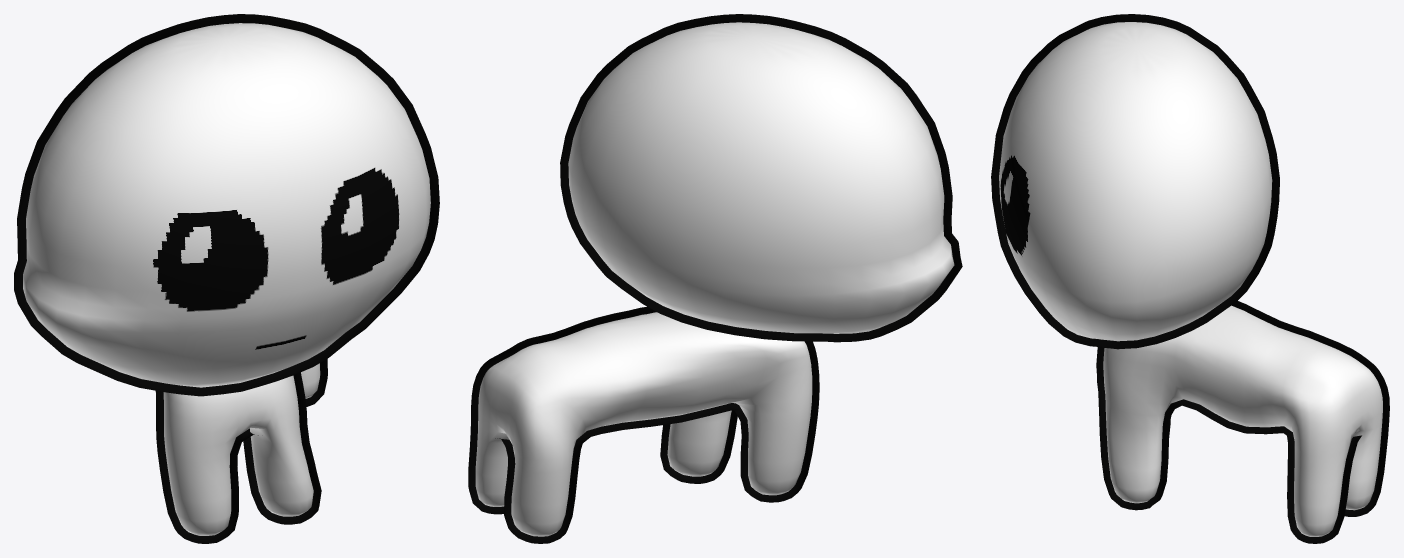
File: tbh-creature-fixed.glb
3 renders of one model, left to right at view 1: azimuth 30°, elevation 25°; view 2: azimuth 150°, elevation 25°; view 3: azimuth 270°, elevation 25°, orthographic. The views are drawn at different scales.
Visible parts, largest first — view 1: 5, 37, 16, 45; view 2: 5, 37, 16, 45; view 3: 5, 37, 16, 45.
Boxes of the visible parts, x1,y1,x2,y2 form: 5: [23, 23, 430, 387]; 37: [163, 363, 320, 535]; 16: [14, 14, 439, 396]; 45: [155, 359, 327, 543]; 5: [568, 22, 954, 333]; 37: [475, 312, 812, 536]; 16: [560, 14, 962, 342]; 45: [468, 306, 819, 543]; 5: [999, 22, 1272, 341]; 37: [1103, 305, 1382, 536]; 16: [991, 14, 1279, 349]; 45: [1096, 301, 1389, 543].
Size of the model in its own units: 4.17 by 4.91 by 4.04.
2 materials, 1 textured.
